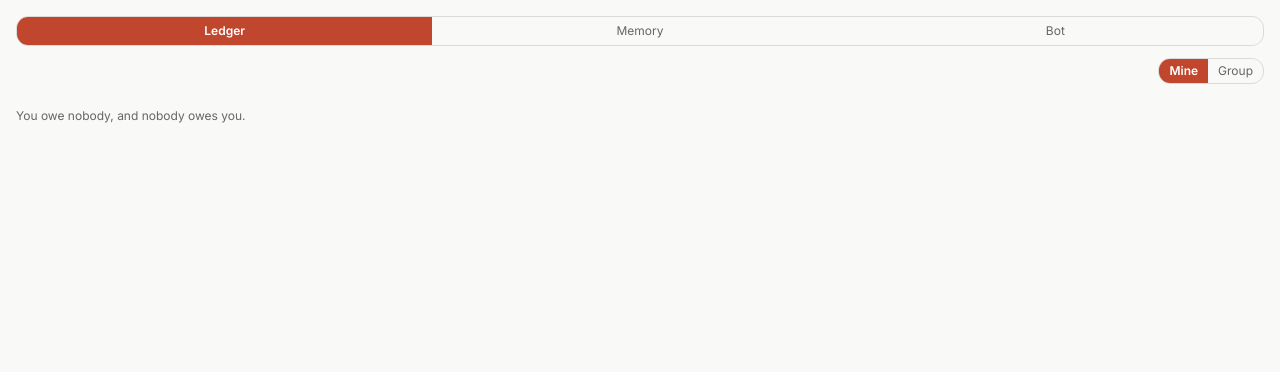
Test: SidePanel › opens on the ledger and switches to the knowledge panel
Expected: the text "You owe nobody, and nobody owes you." is shown, 16,108 -> 246,123
What coordinates should you click on to do the following:
click the tab "Memory"
I would click on:
 (640, 31)
Its box is 432,17 -> 848,45.
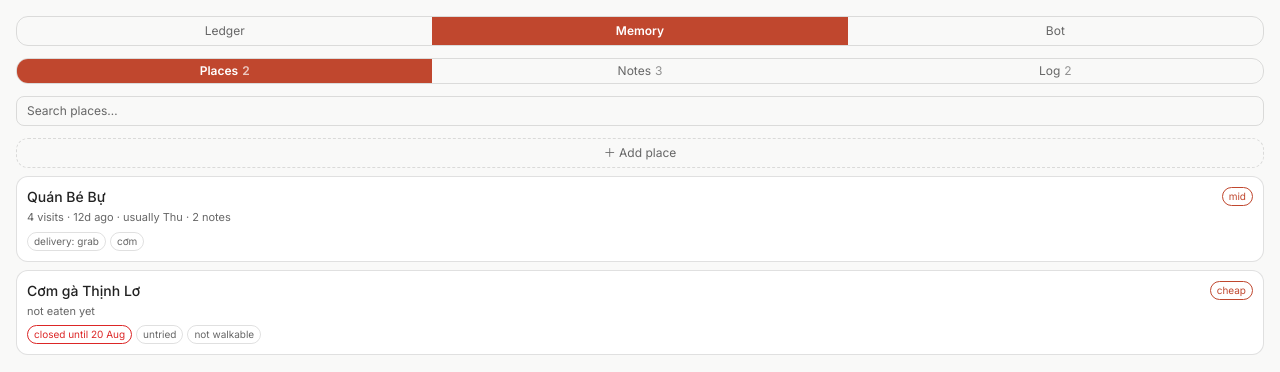
Result: the text "Quán Bé Bự" is shown at 27,188 -> 106,205
